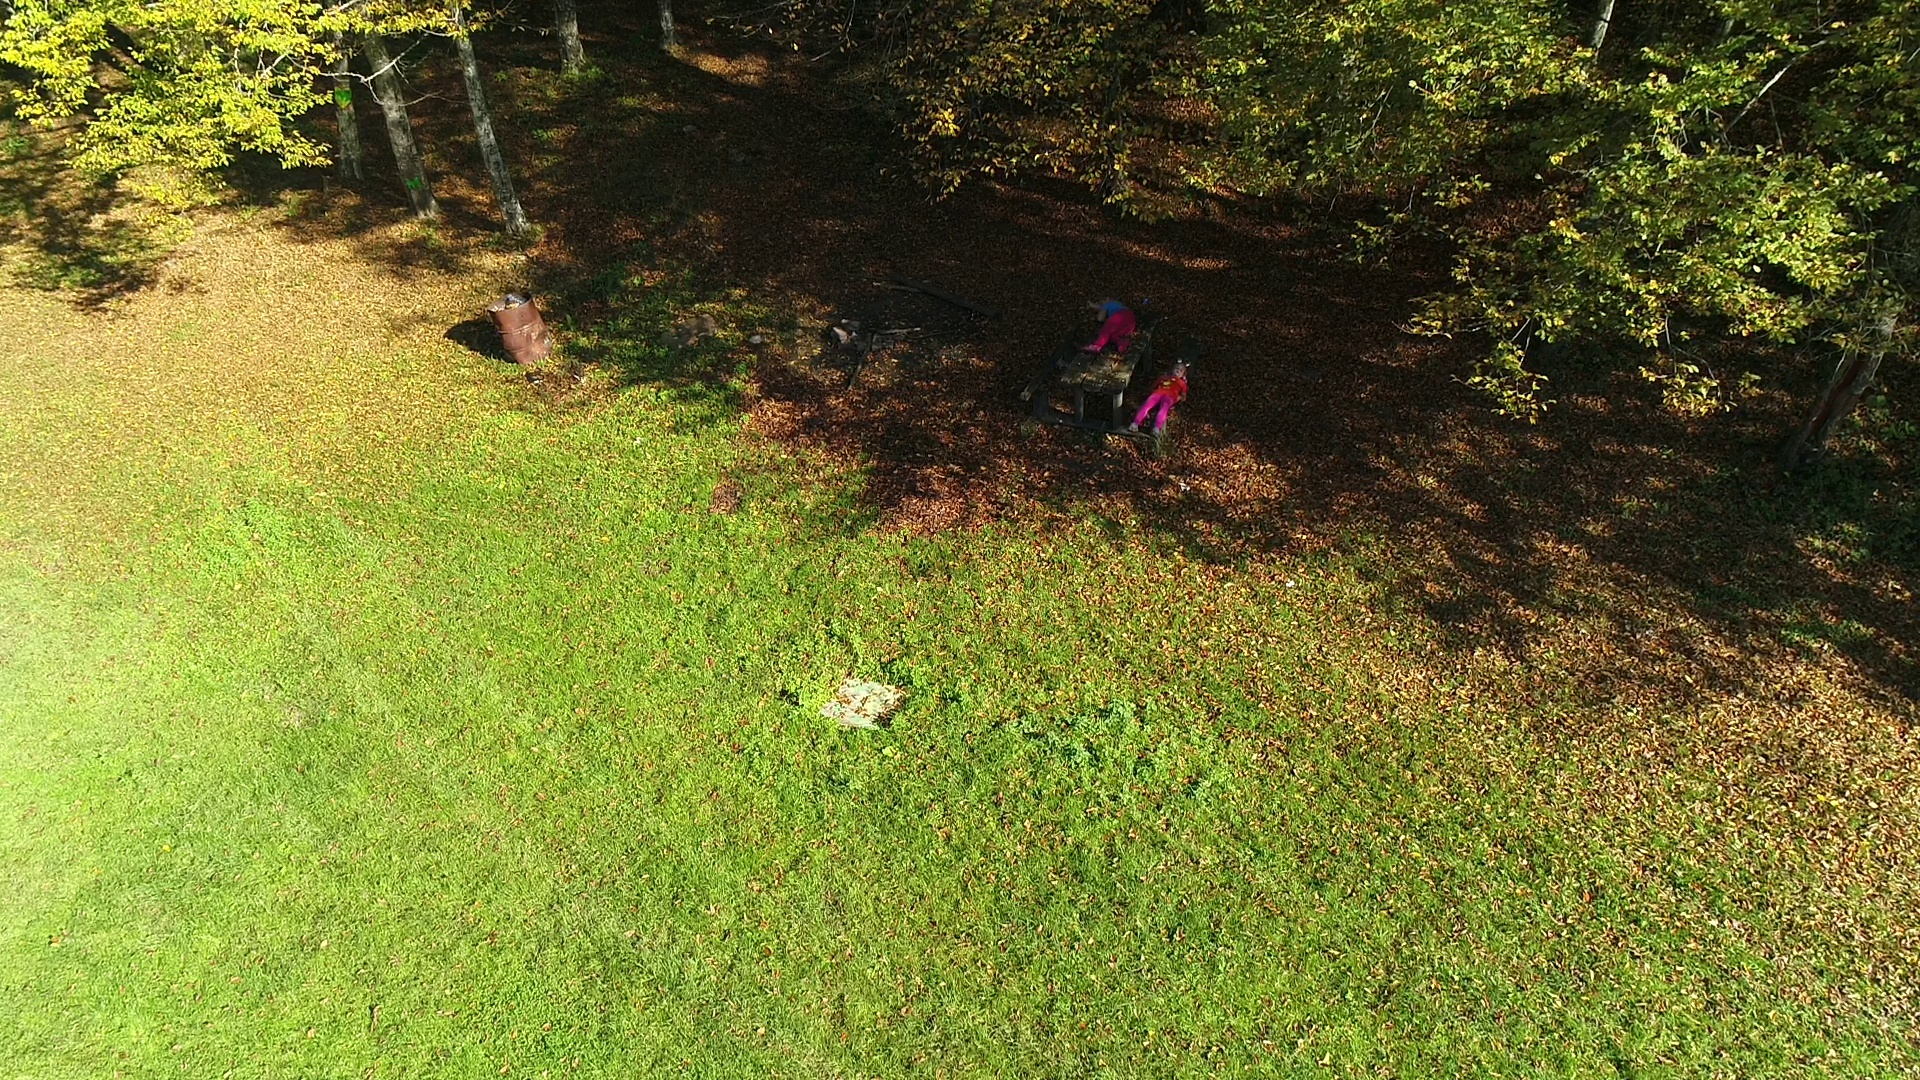person: (1127, 362, 1187, 434), (1079, 296, 1136, 352)
